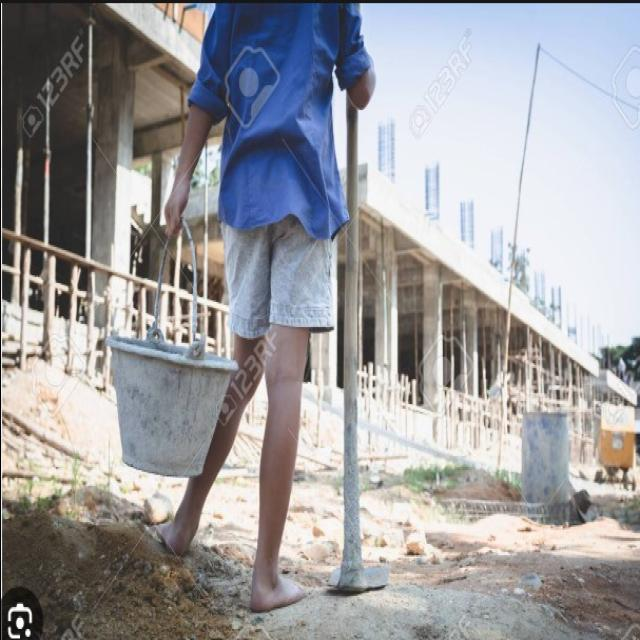Glasses: (144, 489, 318, 628)
Helmet: (180, 13, 408, 267)
